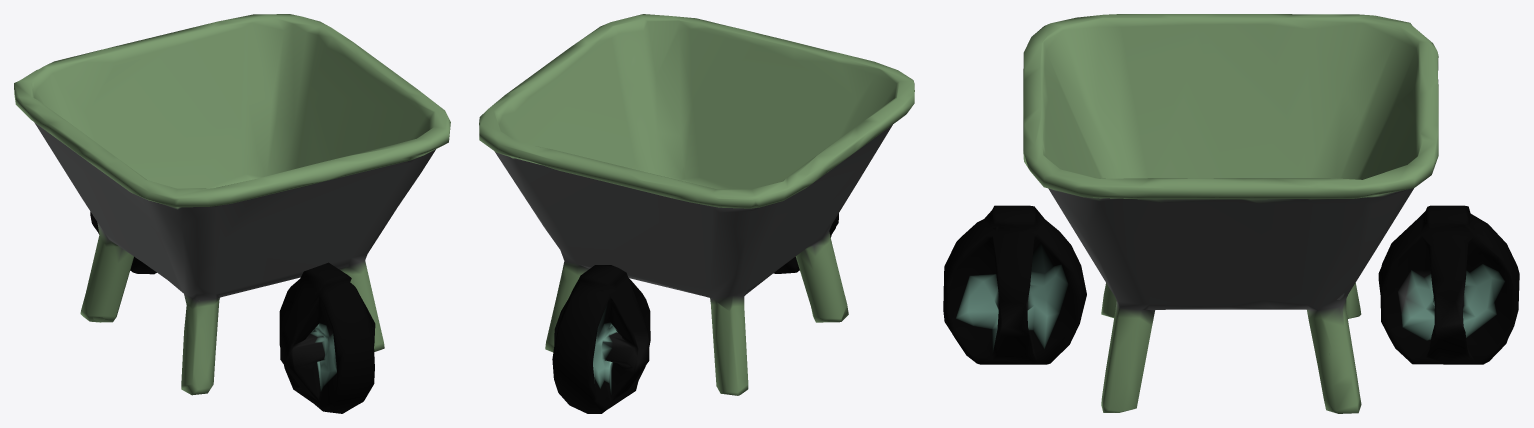
File: gen3d-wheelbarrow-lod0.glb
3 renders of one model, left to right at view 1: azimuth 30°, elevation 25°; view 2: azimuth 150°, elevation 25°; view 3: azimuth 270°, elevation 25°, orthographic. The views are drawn at different scales.
Parts seen in each view (by area): view 1: part_0; view 2: part_0; view 3: part_0.
Boxes of the visible parts, bbox=[...] form: part_0: bbox=[14, 14, 450, 413]; part_0: bbox=[479, 14, 914, 413]; part_0: bbox=[943, 14, 1519, 413].
Bounding box in the file's own units: 1.42 × 0.9998 × 1.98.
